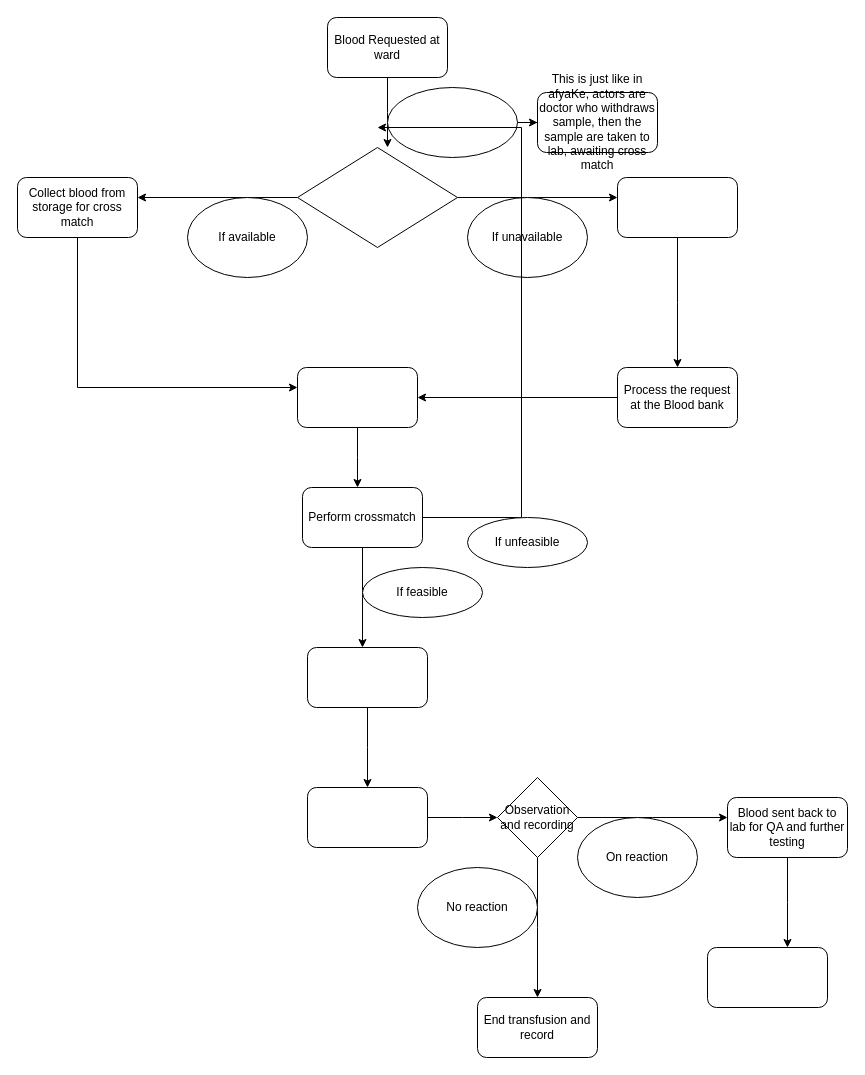
This 865x1075 diagram has some shape labels left out. The centre of each missing label's shape, as x and y in pixels:
"Check local storage for the blood" goes at point (377, 197).
"Dispatch the blood to lab for crossmatch" goes at point (357, 397).
"Dispatched to ward" goes at point (367, 677).
"Initiate cross match for patient, and take sample" goes at point (452, 122).
"Perform transfusion against the patient after confirming the donation number" goes at point (367, 817).
"Request may be made again" goes at point (767, 977).
"Send requisition to DamuKe" goes at point (677, 207).
